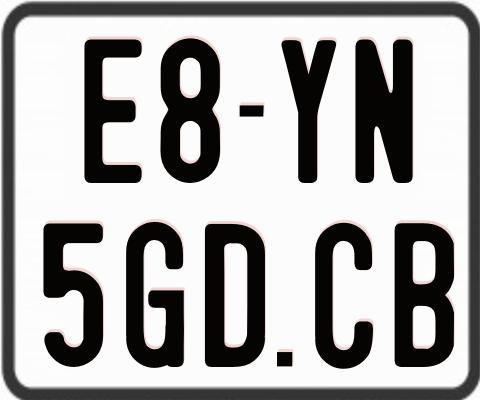5: (43, 222, 108, 370)
8: (160, 35, 221, 184)
B: (392, 221, 452, 371)
C: (312, 221, 375, 373)
D: (205, 223, 267, 367)
E: (81, 36, 144, 182)
G: (125, 222, 185, 370)
N: (354, 37, 413, 183)
Y: (280, 37, 335, 182)
